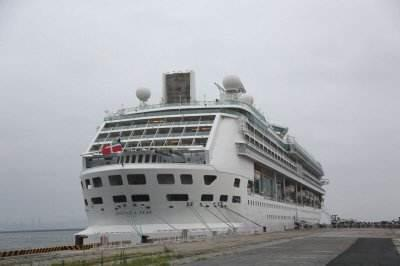youlun: (73, 69, 331, 247)
